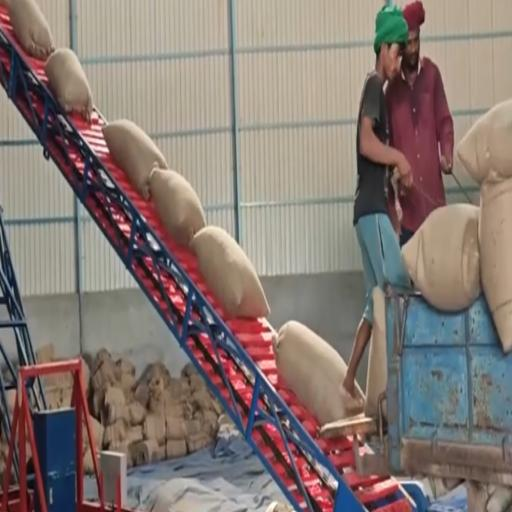Rice-bag-10: (273, 320, 362, 425), (402, 203, 480, 311), (190, 226, 270, 319), (480, 180, 512, 349), (102, 120, 168, 198), (457, 99, 512, 184), (149, 165, 206, 246), (45, 48, 93, 123), (8, 0, 55, 61)
c-belt: (0, 13, 399, 511)
other: (38, 0, 383, 274), (0, 147, 188, 381), (0, 97, 134, 295), (262, 197, 362, 358), (128, 426, 287, 511), (424, 0, 512, 140), (164, 134, 233, 230), (125, 377, 147, 408)
